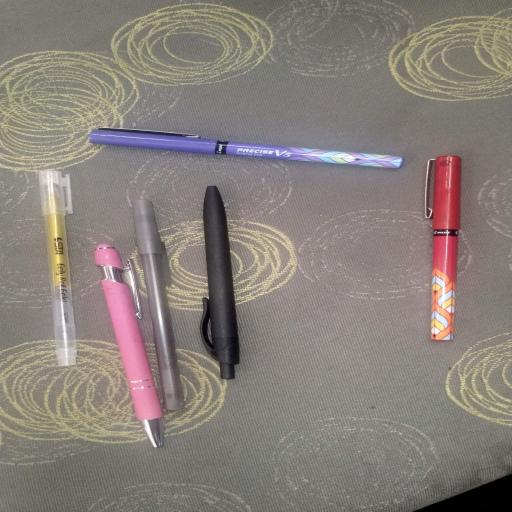pen: (95, 244, 163, 447), (89, 128, 403, 168), (133, 200, 183, 410), (201, 186, 239, 378), (39, 170, 76, 365), (426, 156, 461, 340)
